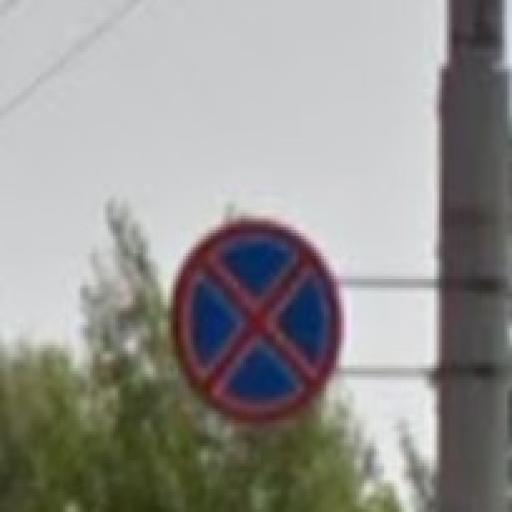traffic_sign: (169, 220, 345, 427)
